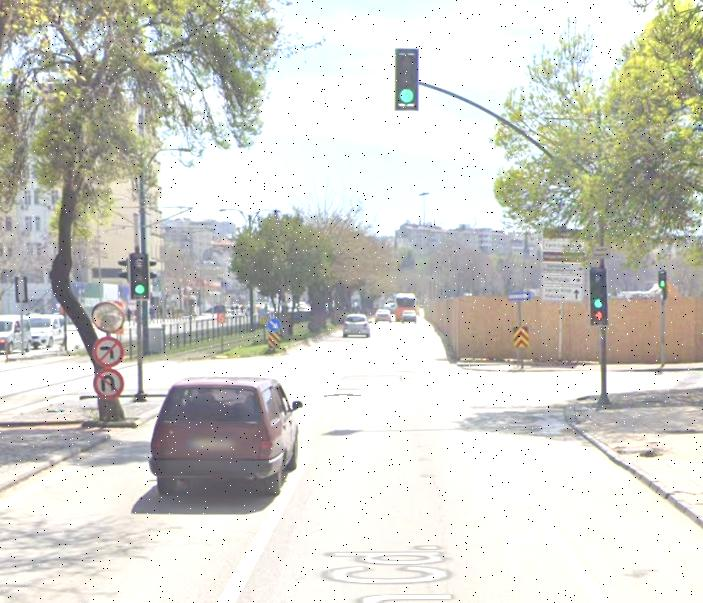greenlight: (393, 47, 422, 112), (588, 266, 610, 312), (129, 250, 149, 296)
leftturnsareforbidden: (96, 338, 124, 365)
